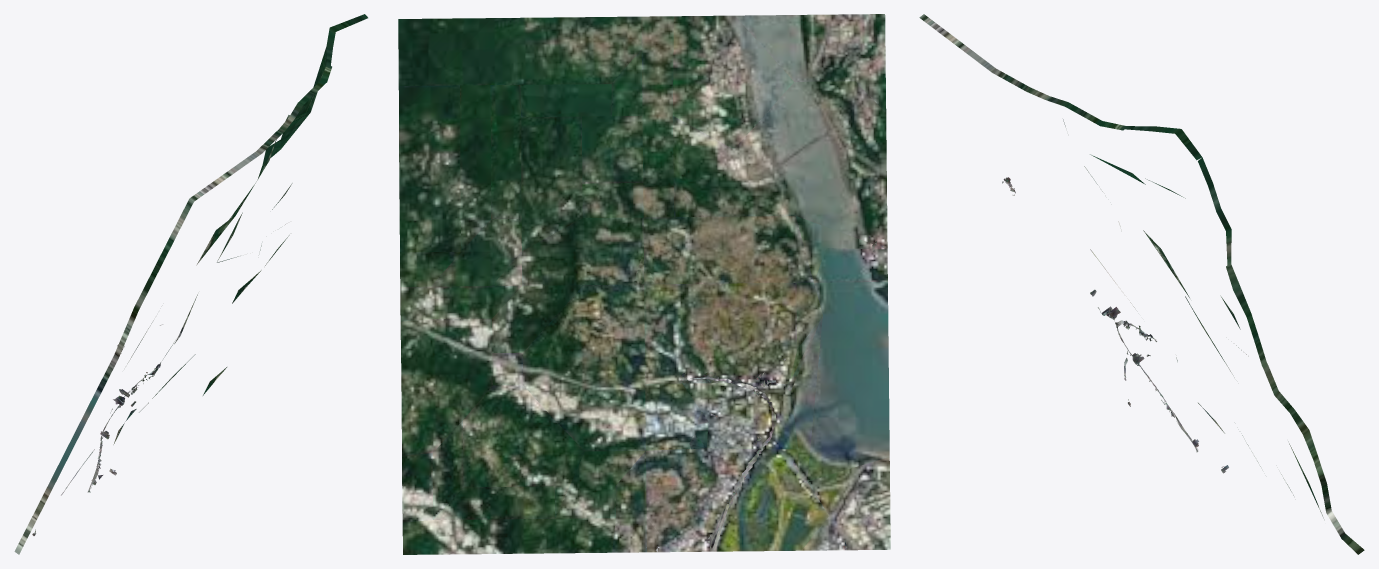
The picture shows the model from 3 angles, left to right: view 1: azimuth 30°, elevation 25°; view 2: azimuth 150°, elevation 25°; view 3: azimuth 270°, elevation 25°; orthographic projection. The views are drawn at different scales.
Bounding box in the file's own units: 4681 × 4684 × 4220.
Materials: 1 (1 with a texture image).
